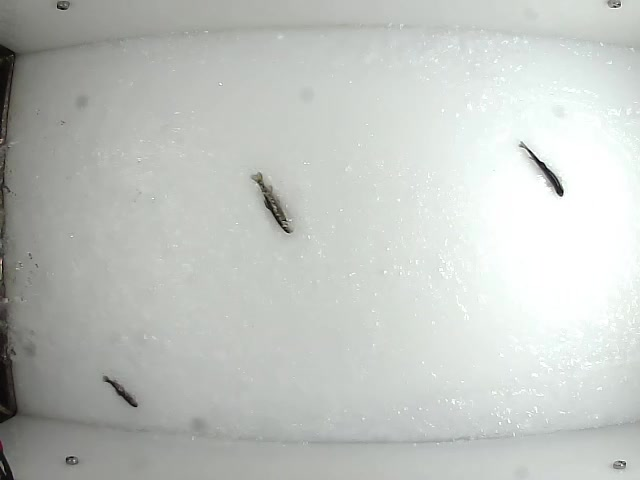fish: (248, 168, 296, 235), (516, 138, 566, 198), (100, 371, 142, 409)
